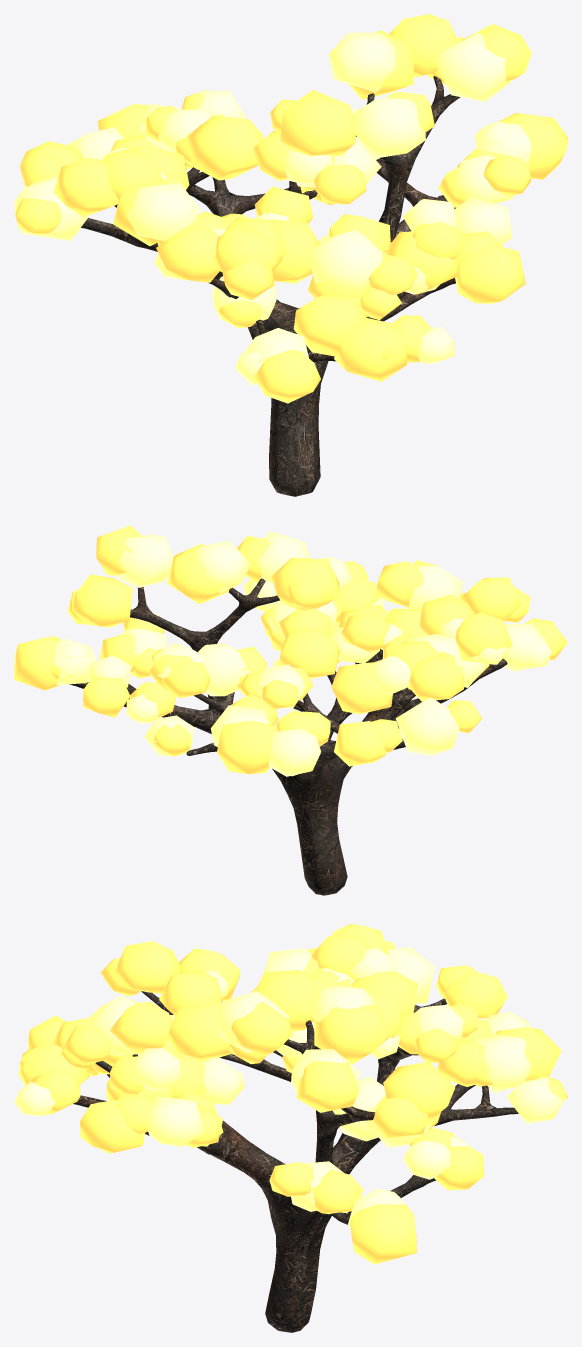
File: ember_tree_b.glb
The picture shows the model from 3 angles, top to bottom: view 1: azimuth 30°, elevation 25°; view 2: azimuth 150°, elevation 25°; view 3: azimuth 270°, elevation 25°; orthographic projection. The views are drawn at different scales.
Parts seen in each view (by area): view 1: ember_tree_b_e, ember_tree_b_w; view 2: ember_tree_b_e, ember_tree_b_w; view 3: ember_tree_b_e, ember_tree_b_w.
Part boxes in pixels (x1=…): ember_tree_b_e: x1=14, y1=14, x2=567, y2=403; ember_tree_b_w: x1=81, y1=76, x2=460, y2=496; ember_tree_b_e: x1=14, y1=525, x2=567, y2=776; ember_tree_b_w: x1=69, y1=578, x2=507, y2=895; ember_tree_b_e: x1=14, y1=924, x2=567, y2=1264; ember_tree_b_w: x1=73, y1=991, x2=518, y2=1332.
Size of the model in its own units: 10.56 by 7.49 by 9.78.
Materials: 3 (1 with a texture image).
